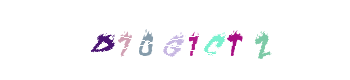1: (134, 0, 214, 80)
7: (97, 0, 177, 80)
C: (177, 0, 257, 80)
D: (64, 0, 144, 80)
G: (134, 0, 214, 80)
O: (108, 0, 188, 80)
T: (179, 0, 259, 80)
Z: (222, 0, 302, 80)
